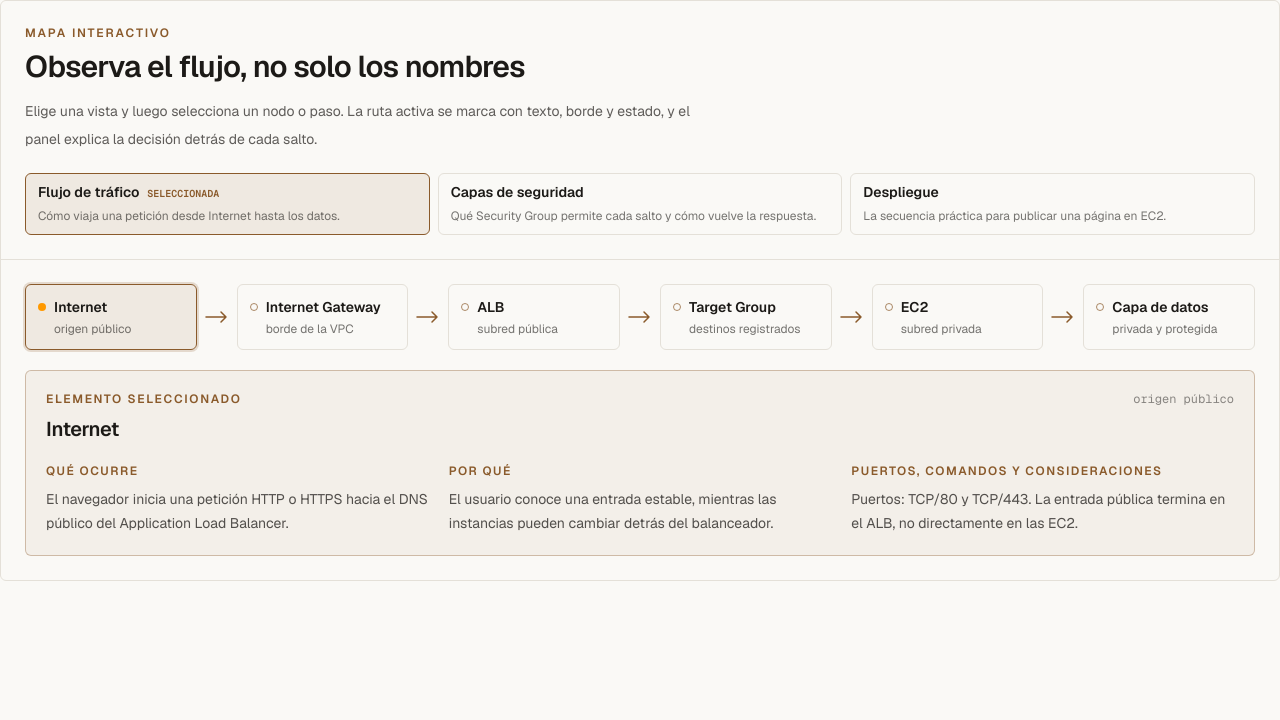
Scenario: AWSArchitectureDiagrams › supports keyboard activation for deployment steps
The width and height of the screenshot is (1280, 720).
Click the tab "Despliegue".
click(901, 192)  # box [850, 173, 1255, 235]
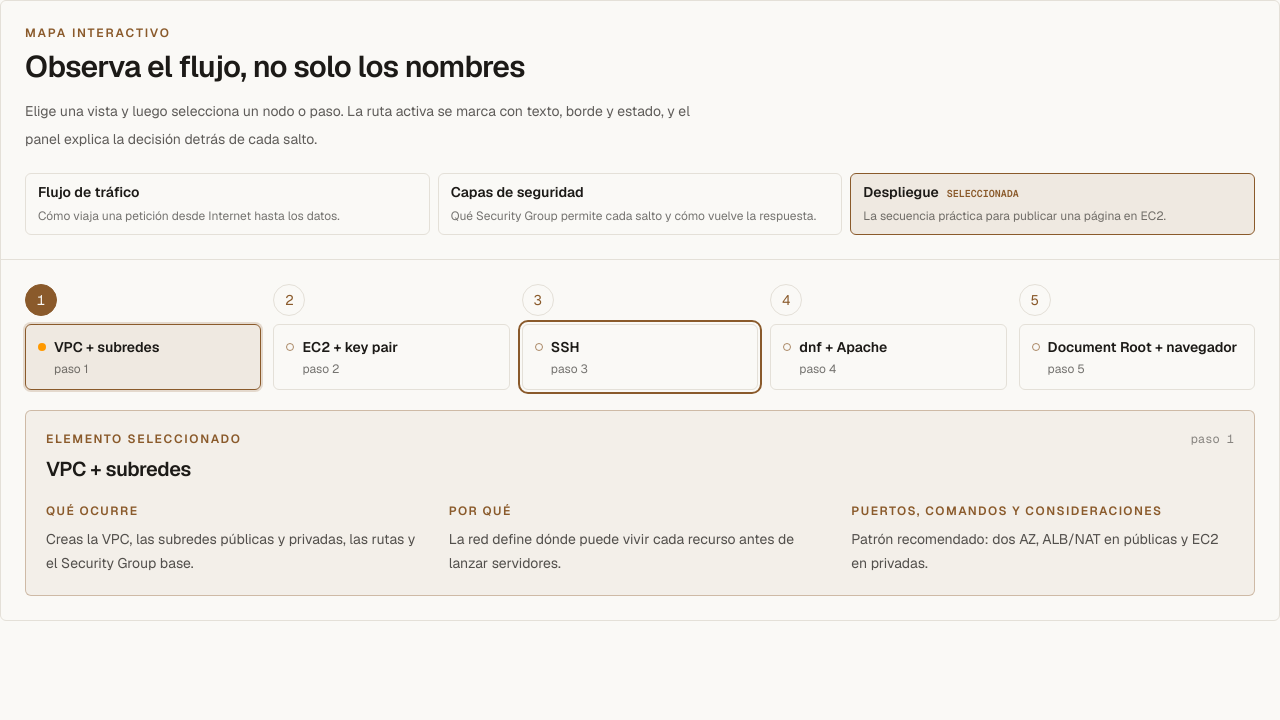
Press Enter
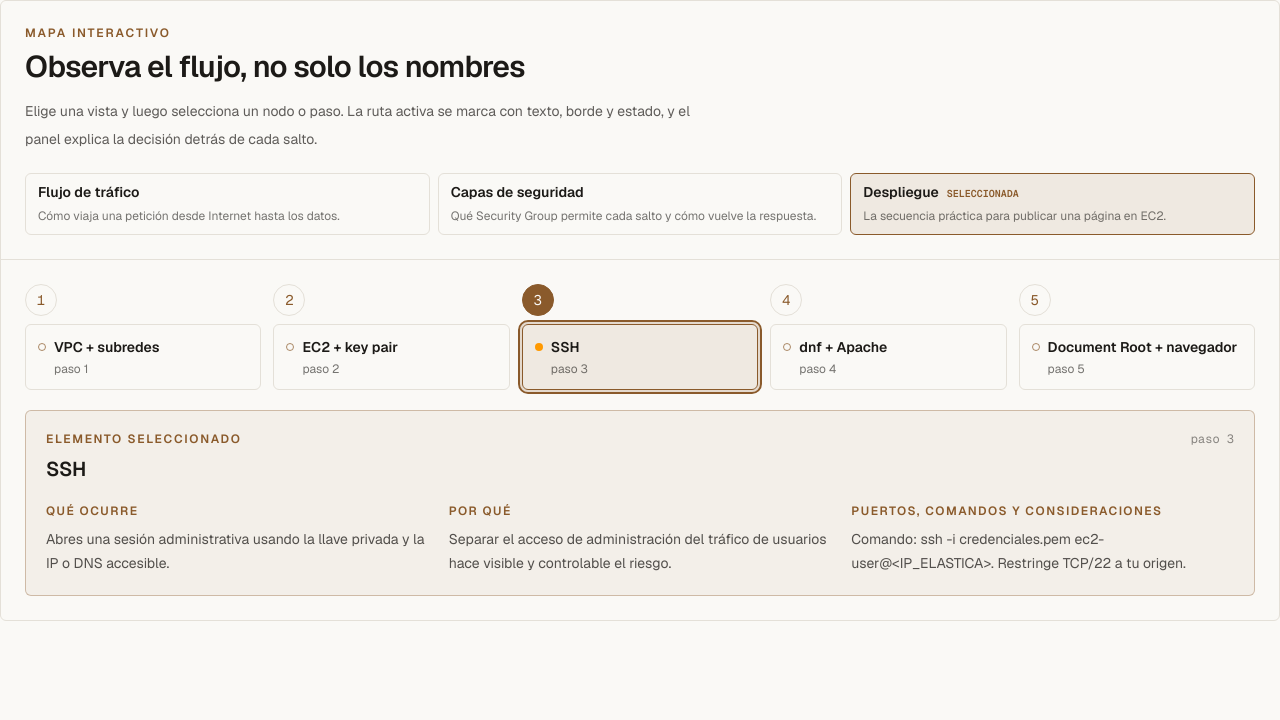
Expected: the heading "SSH" is shown, [46, 456, 86, 482]
